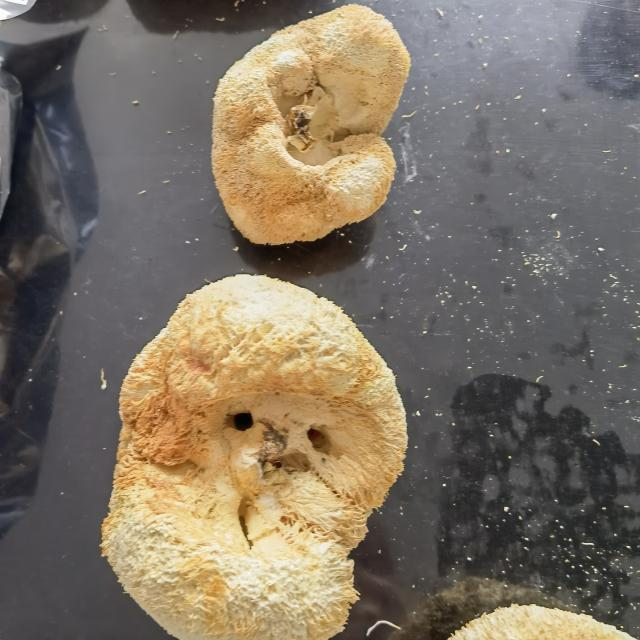Hericium erinaceus: (101, 277, 408, 640), (213, 6, 410, 244)
